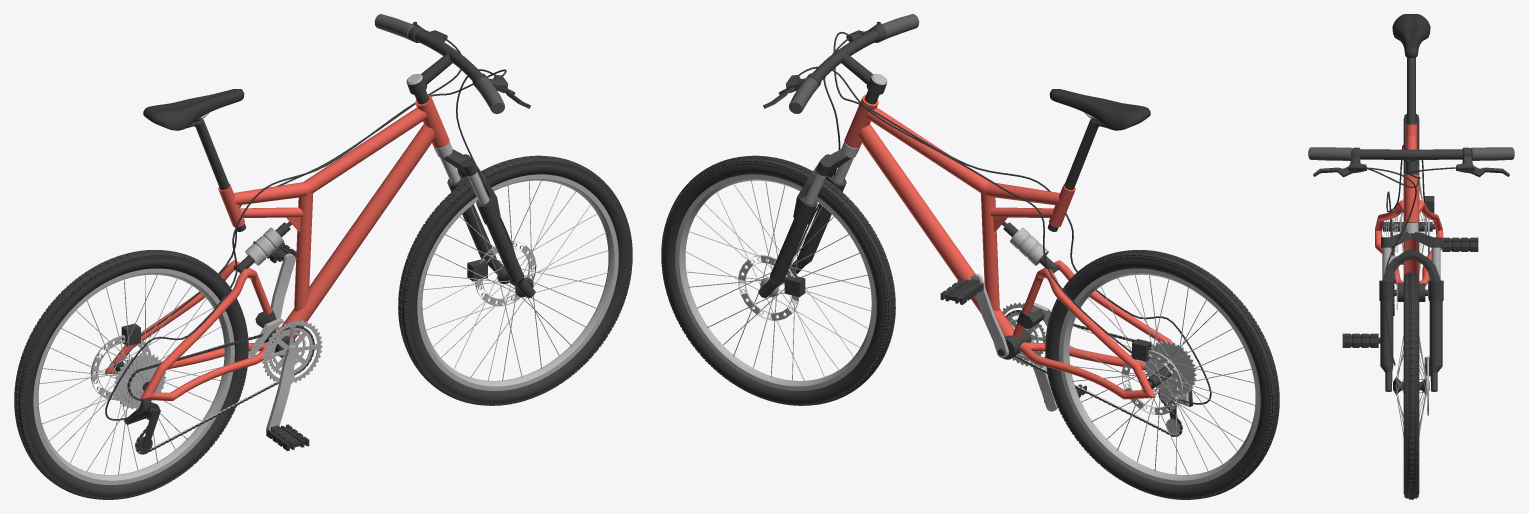
Rendered from bike_01.fbx.
The picture shows the model from 3 angles, left to right: view 1: azimuth 30°, elevation 25°; view 2: azimuth 150°, elevation 25°; view 3: azimuth 270°, elevation 25°; orthographic projection. The views are drawn at different scales.
Parts seen in each view (by area): view 1: koleso01, koleso, Line04, group1, Line12, Line14, Box06, Plane02, zub39, Star07, Line51, retaz26 (+6 smaller); view 2: koleso01, koleso, Line04, group1, Line12, Line14, Box06, Plane02, Star07, Line51, Line53, Tube02 (+7 smaller); view 3: Line14, koleso01, group1, Line04, Plane02, Line12, Box06, Line07, Box01, Box02, Line52, koleso (+4 smaller).
Boxes of the visible parts, x1,y1,x2,y2 form: koleso01: (398,155,632,405); koleso: (14,250,248,499); Line04: (218,95,449,339); group1: (38,14,507,475); Line12: (105,260,280,401); Line14: (434,147,535,298); Box06: (422,181,608,381); Plane02: (143,89,244,130); zub39: (262,320,322,383); Star07: (113,352,166,409); Line51: (105,69,506,420); retaz26: (127,325,314,454); koleso01: (661,155,895,405); koleso: (1045,250,1279,499); Line04: (844,95,1075,336); group1: (786,14,1255,475); Line12: (1013,260,1172,399); Line14: (758,147,859,298); Box06: (684,180,871,381); Plane02: (1049,89,1150,130); Star07: (1144,340,1196,396); Line51: (833,31,1211,404); Line53: (798,66,1131,353); Tube02: (1121,350,1182,414); Line14: (1379,232,1443,391); koleso01: (1403,272,1419,499); group1: (1308,147,1514,274); Line04: (1403,124,1419,277); Plane02: (1392,14,1430,57); Line12: (1375,200,1443,285); Box06: (1395,335,1426,436); Line07: (1407,57,1415,124); Box01: (1342,333,1380,347); Box02: (1441,237,1478,251); Line52: (1366,167,1416,365); koleso: (1403,114,1419,270).
Size of the model in its own units: 168 by 99.6 by 57.36.
